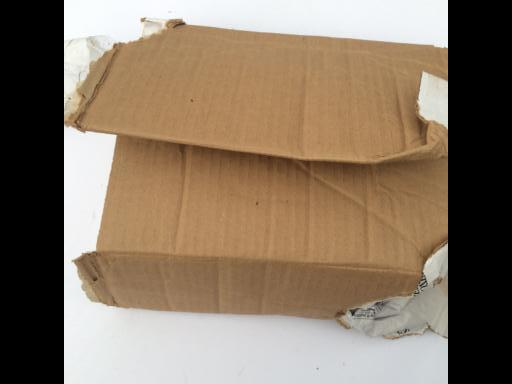cardboard: (69, 15, 447, 345)
